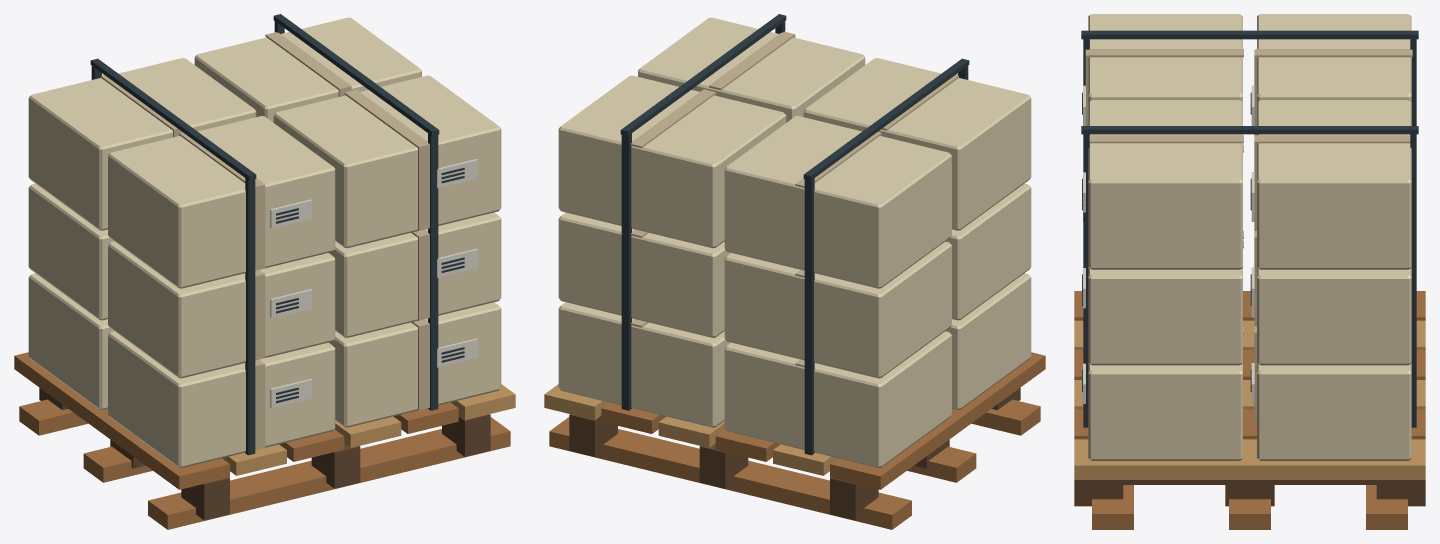
Rendered from b14_pallet_carton_stack.glb.
3 views of the same model, side by side, from view 1: azimuth 30°, elevation 25°; view 2: azimuth 150°, elevation 25°; view 3: azimuth 270°, elevation 25° (orthographic). The views are drawn at different scales.
Visible parts, largest first — view 1: b14_pallet_carton_stack; view 2: b14_pallet_carton_stack; view 3: b14_pallet_carton_stack.
Part boxes in pixels (left/top/right/bottom): b14_pallet_carton_stack: left=14, top=14, right=515, bottom=529; b14_pallet_carton_stack: left=544, top=14, right=1045, bottom=529; b14_pallet_carton_stack: left=1074, top=14, right=1425, bottom=529.
Bounding box in the file's own units: 1.2 × 1.13 × 1.
